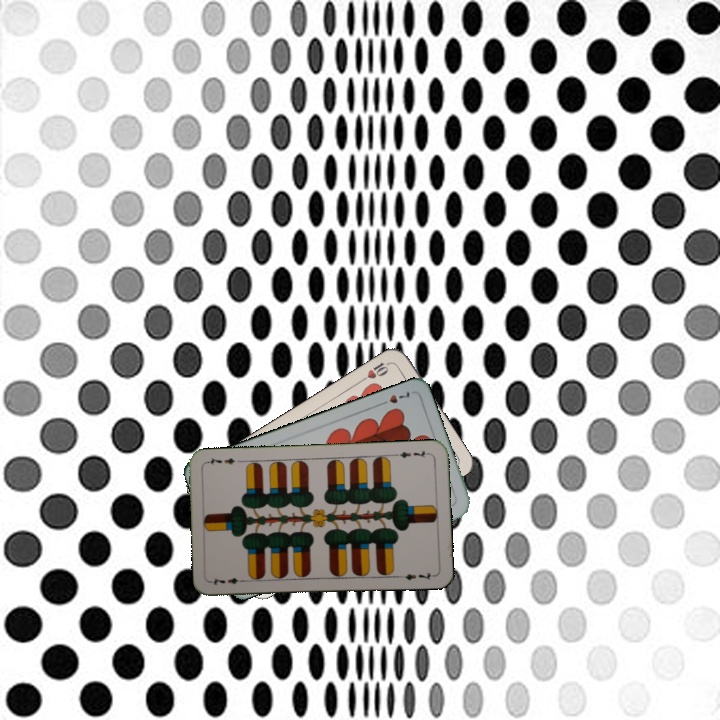E7: (392, 446, 432, 461), (208, 574, 248, 588)
H10: (358, 357, 395, 384)
H7: (375, 388, 414, 408)
